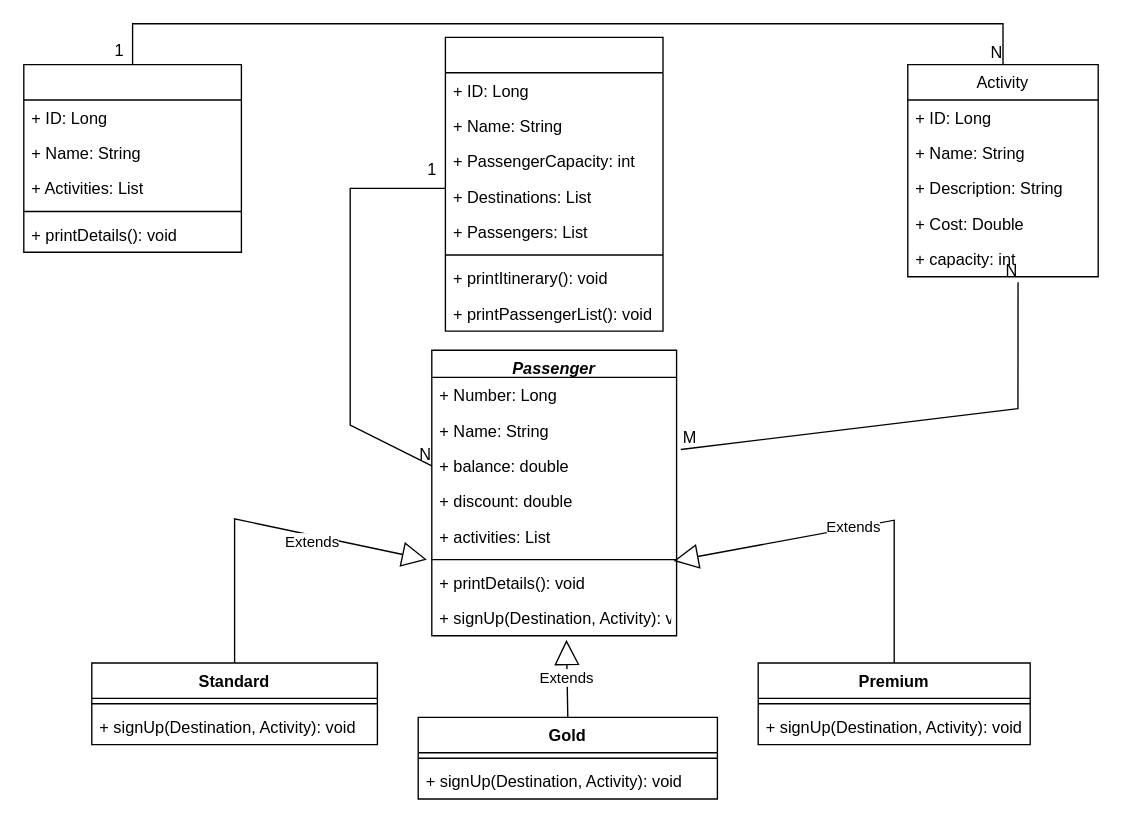
Some shapes in this 1122 by 827 pixel diagram are drawn without their labels. Here are the shapes that lost their labels. From the top down, the box of each, then its label:
(22, 63, 241, 252): Destination
(444, 36, 663, 331): TravelPackage
